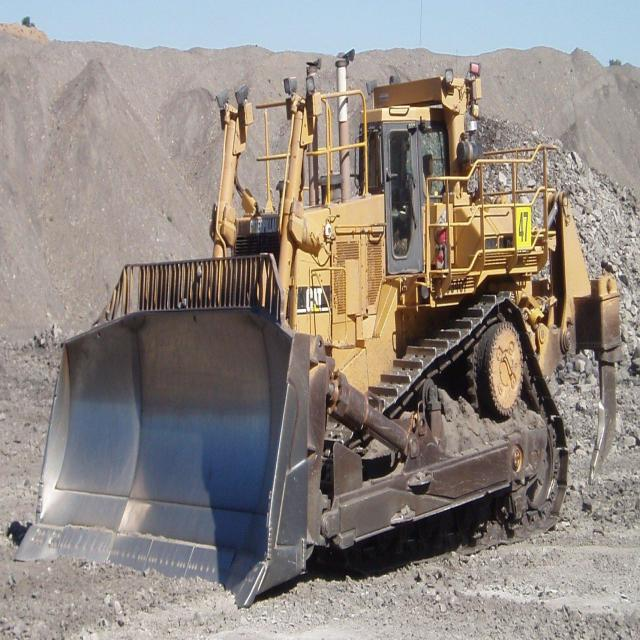buldozerpayloadergrader: (21, 43, 640, 609)
